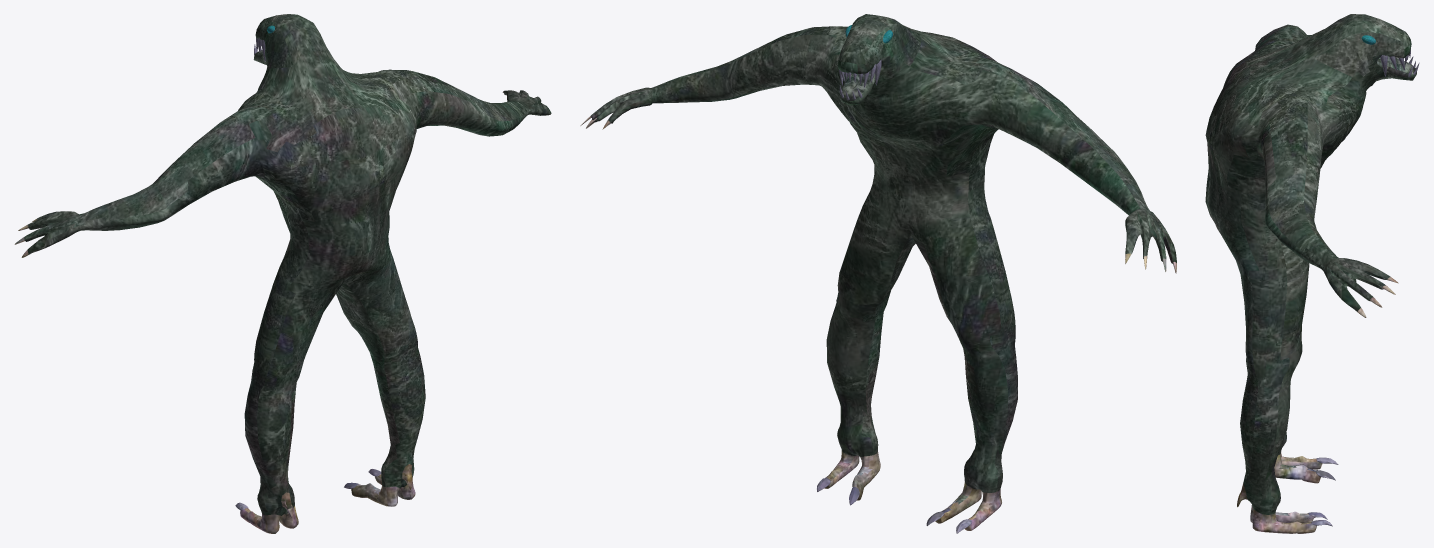
The model's file is Aranar.0001.obj.
3 views of the same model, side by side, from view 1: azimuth 30°, elevation 25°; view 2: azimuth 150°, elevation 25°; view 3: azimuth 270°, elevation 25° (orthographic). The views are drawn at different scales.
Parts seen in each view (by area): view 1: polySurface28; view 2: polySurface28; view 3: polySurface28.
Part boxes in pixels (left/top/right/bottom): polySurface28: left=14, top=14, right=551, bottom=533; polySurface28: left=580, top=14, right=1176, bottom=533; polySurface28: left=1205, top=14, right=1419, bottom=533.
Bounding box in the file's own units: 2.77 × 2.32 × 0.9275.
Materials: 4 (4 with a texture image).
